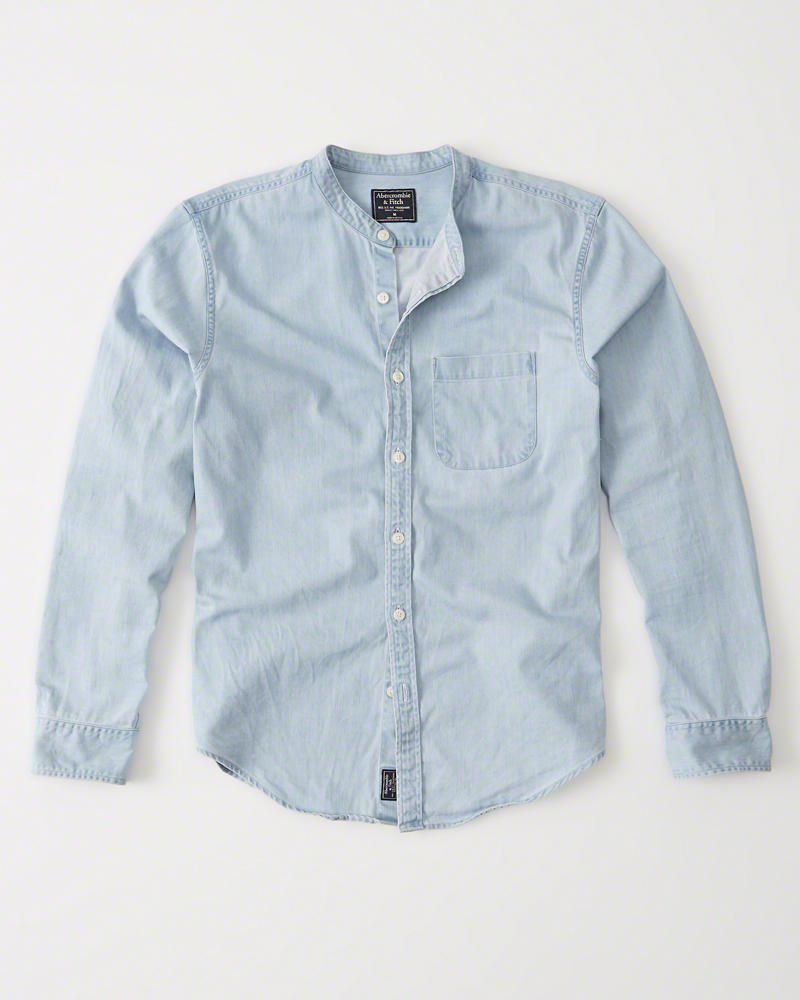teeshirt: (49, 146, 785, 854)
